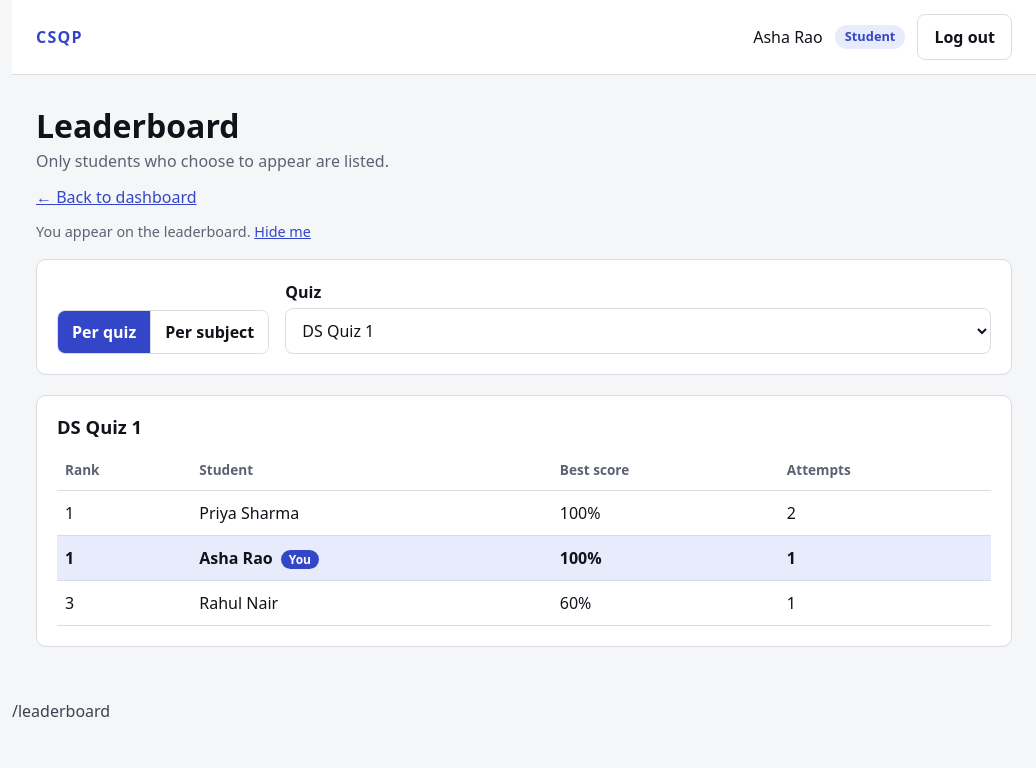
Test: Leaderboard page (CSQP-29) › switches between quizzes and to per-subject ranking
Select "OS Quiz" in the dropdown labelled "Quiz". click: (638, 331)
box: [285,308,991,354]
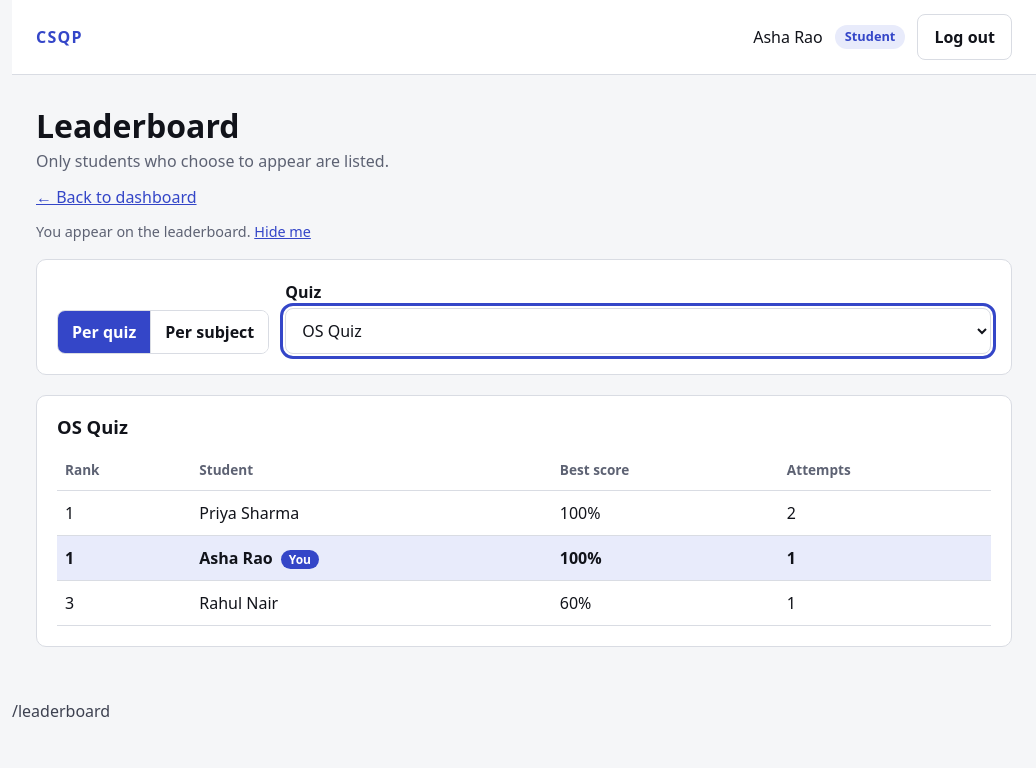
Result: the heading "OS Quiz" is shown at [57,414,128,439]
Click the button "Per subject". click: click(209, 332)
box: [150,311,268,353]
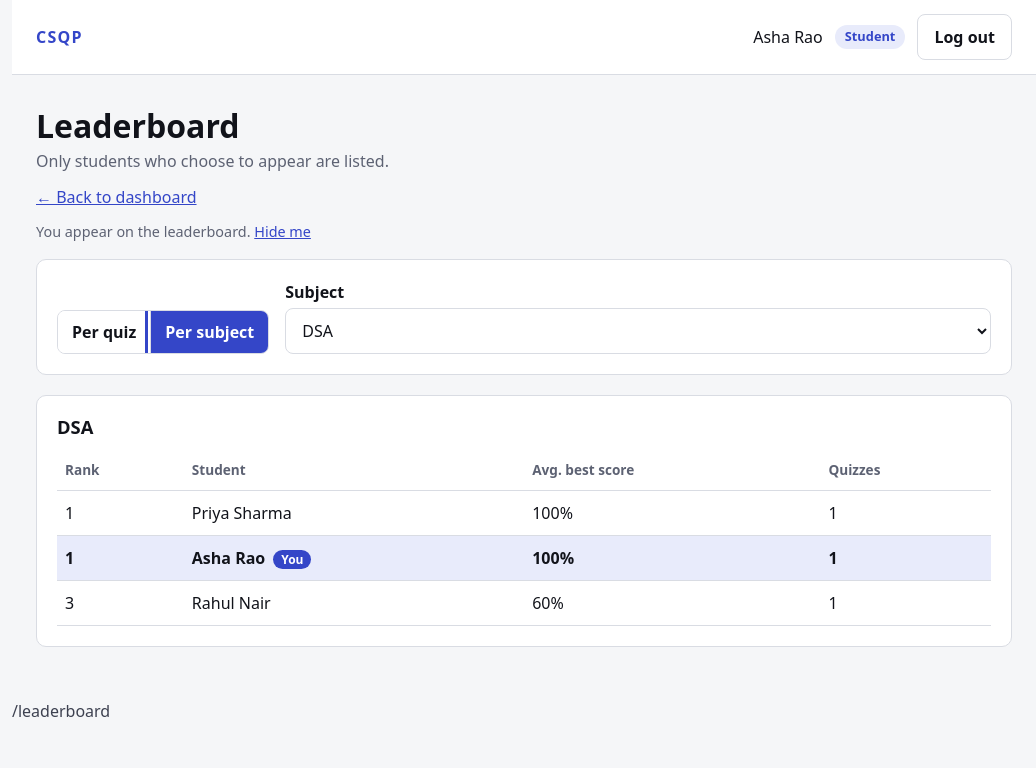
Result: the column heading "Avg. best score" is shown at [524,450,820,491]
